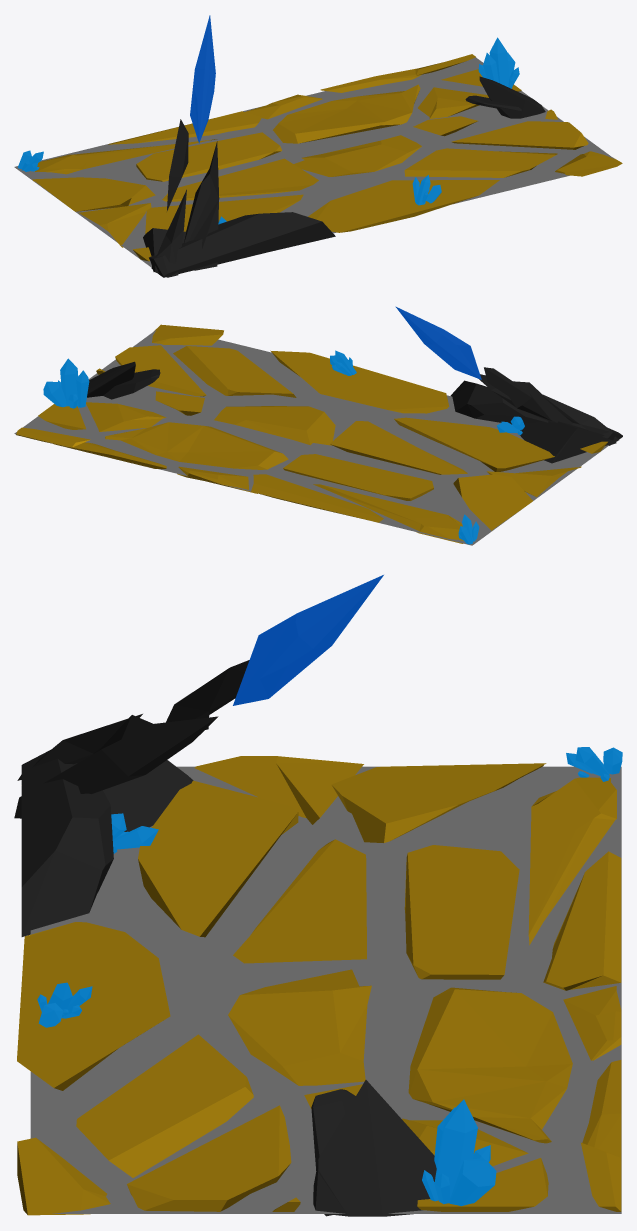
Rendered from terrain-lightning.glb.
3 views of the same model, one above another, from view 1: azimuth 30°, elevation 25°; view 2: azimuth 150°, elevation 25°; view 3: azimuth 270°, elevation 25° (orthographic). The views are drawn at different scales.
Parts seen in each view (by area): view 1: lightning-terrain; view 2: lightning-terrain; view 3: lightning-terrain.
Part boxes in pixels (x1=…): lightning-terrain: x1=14, y1=15, x2=622, y2=277; lightning-terrain: x1=14, y1=306, x2=622, y2=545; lightning-terrain: x1=14, y1=575, x2=622, y2=1216.
Size of the model in its own units: 14.07 by 4.75 by 7.92.
Materials: 1 (1 with a texture image).
